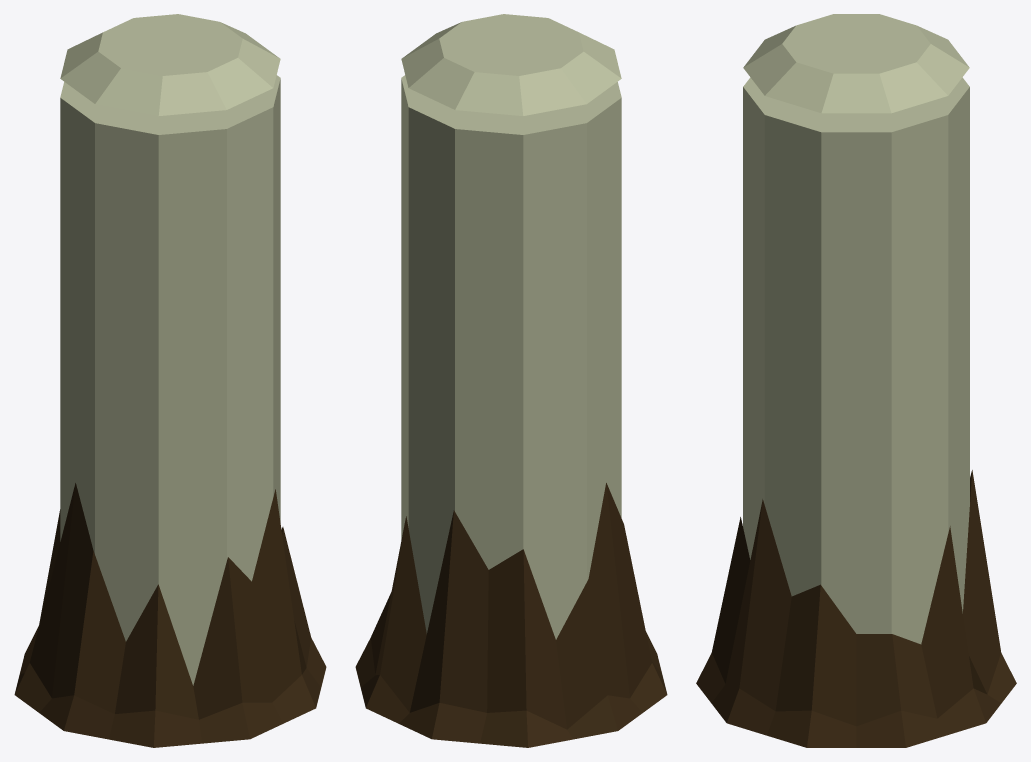
Rendered from tower.glb.
3 views of the same model, side by side, from view 1: azimuth 30°, elevation 25°; view 2: azimuth 150°, elevation 25°; view 3: azimuth 270°, elevation 25° (orthographic).
Visible parts, largest first — view 1: Tower_mesh, Tower_base; view 2: Tower_mesh, Tower_base; view 3: Tower_mesh, Tower_base.
Part boxes in pixels (x1,y1,x2,y2): Tower_mesh: (60, 14, 280, 685); Tower_base: (14, 483, 326, 747); Tower_mesh: (401, 14, 621, 639); Tower_base: (355, 483, 667, 747); Tower_mesh: (743, 14, 969, 644); Tower_base: (696, 470, 1016, 747).
Size of the model in its own units: 14.79 by 34.23 by 15.55.
